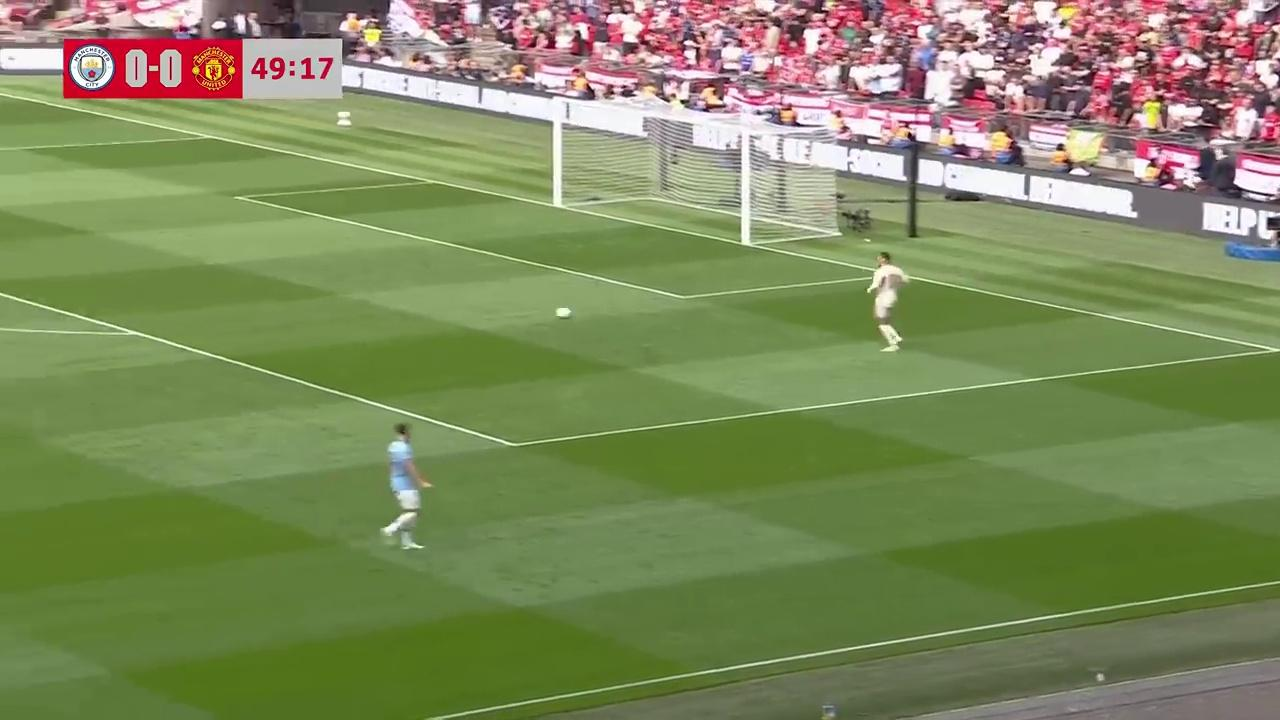ball: (556, 303, 573, 321)
player: (379, 422, 433, 550), (867, 255, 903, 351)
